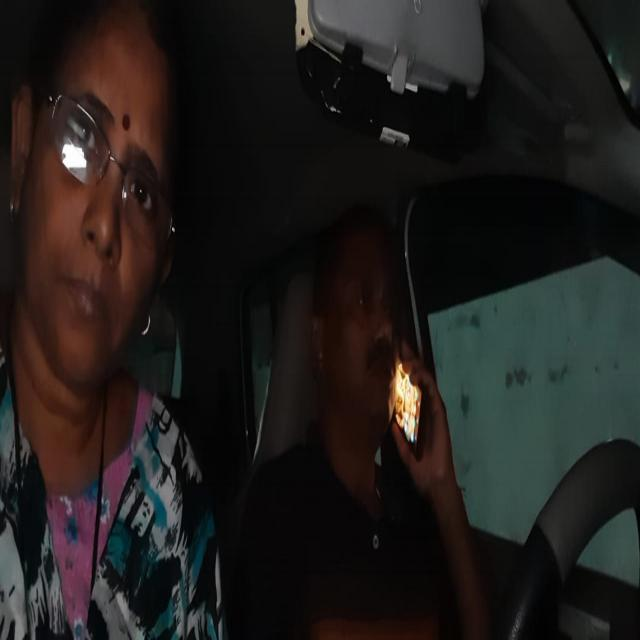mobile: (395, 360, 431, 468)
person: (0, 0, 190, 424), (311, 196, 400, 446)
